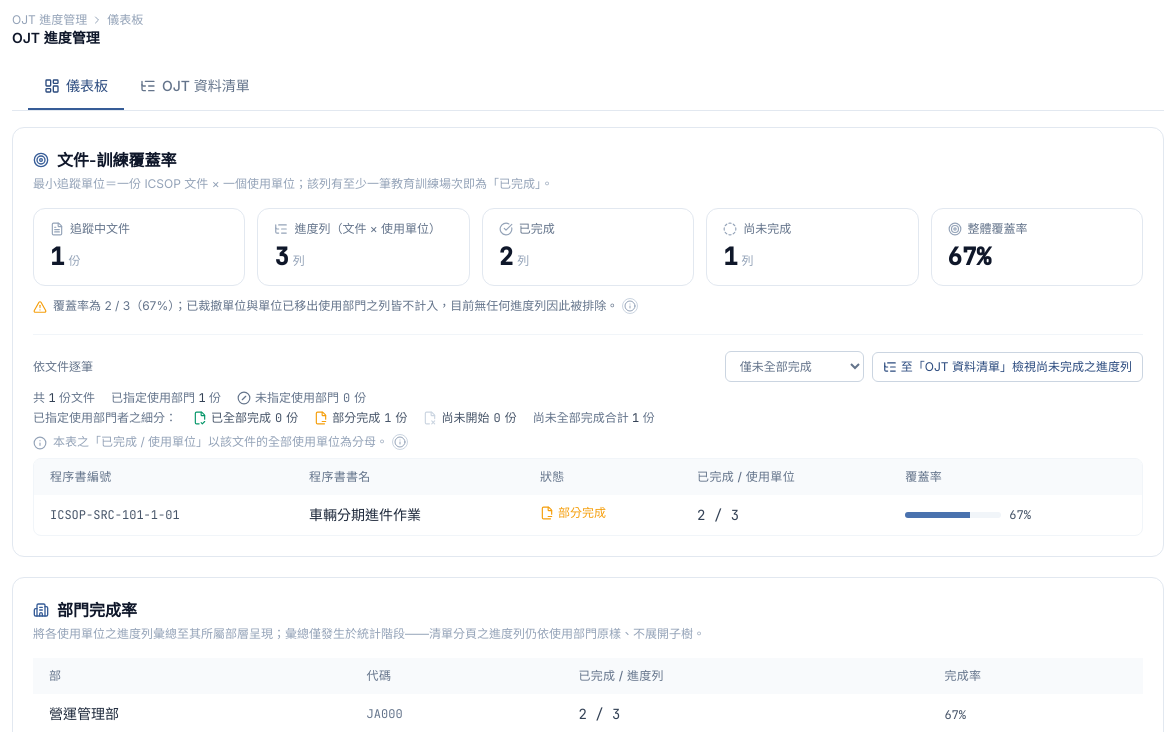
Test case: OjtProgressPage — F042 OJT 進度管理（移植 prototype 25） › A. TAB 分頁骨架 › 點擊 OJT 資料清單分頁 → aria-selected 互換、TAB2 內容顯示
The width and height of the screenshot is (1176, 732).
Expected: the heading "文件-訓練覆蓋率" is shown, [57,148,176,172]
Click the tab "OJT 資料清單".
click(195, 87)  # box [124,64,266,110]
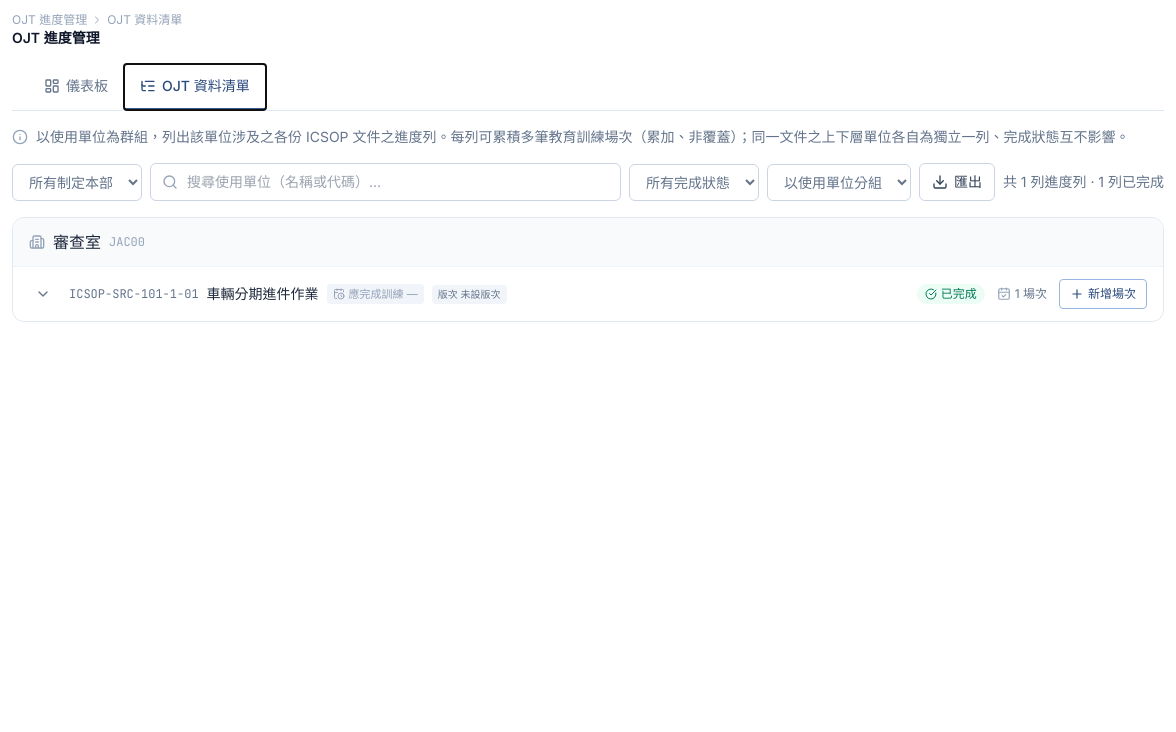
Now the element showing "匯出 共 1 列進度列 · 1 列已完成" is shown, box [12,163,1164,201]
